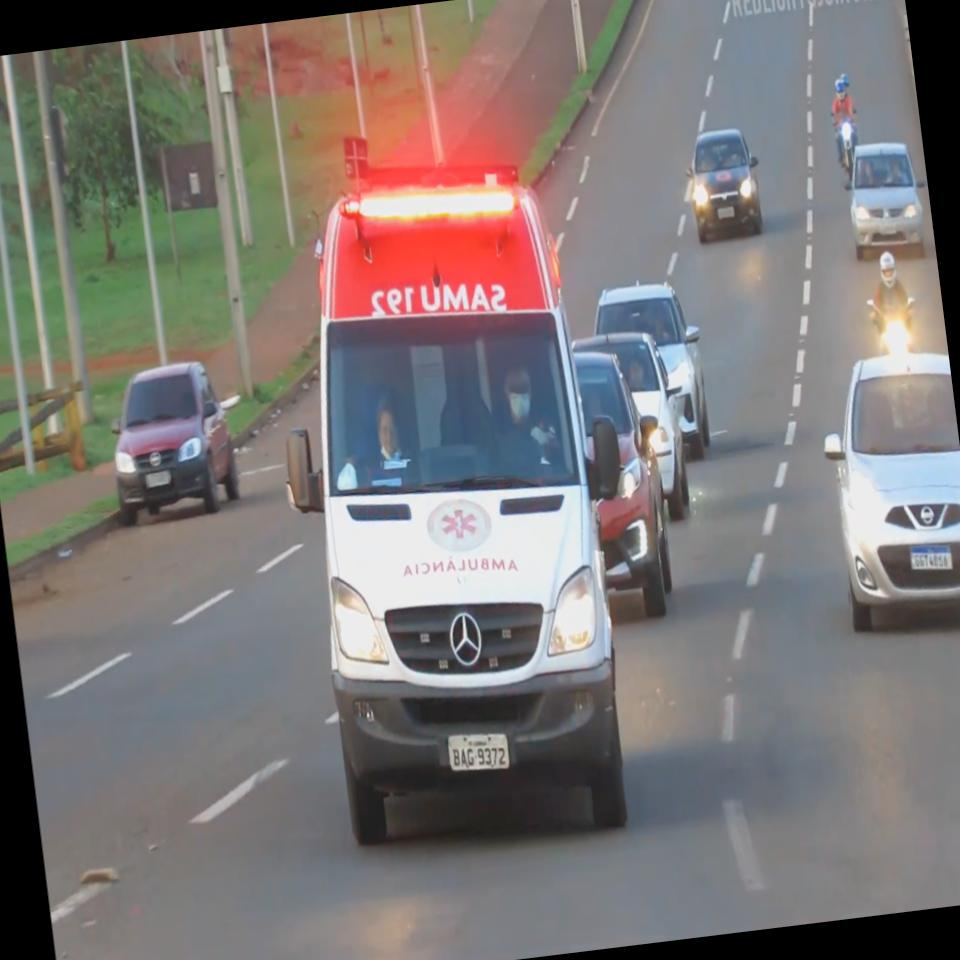bombeiro: (246, 107, 669, 862)
